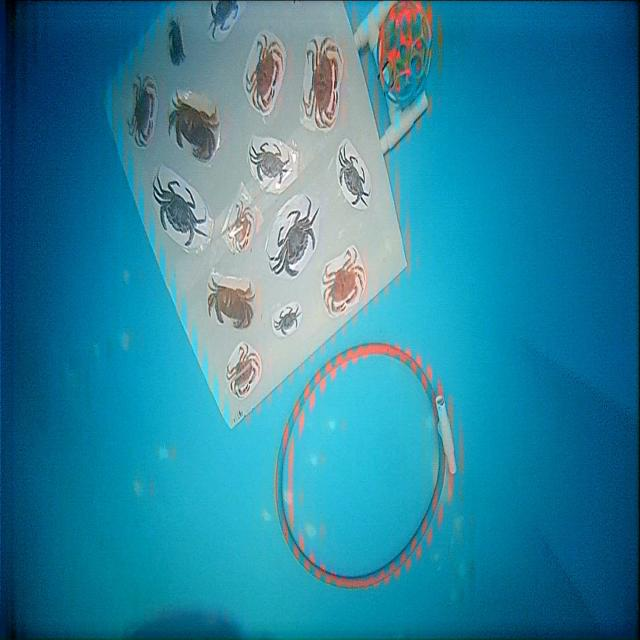GreenCrab: (269, 197, 319, 277), (154, 176, 205, 247), (338, 143, 370, 206), (249, 142, 290, 182), (274, 306, 300, 336), (11, 13, 12, 17)
